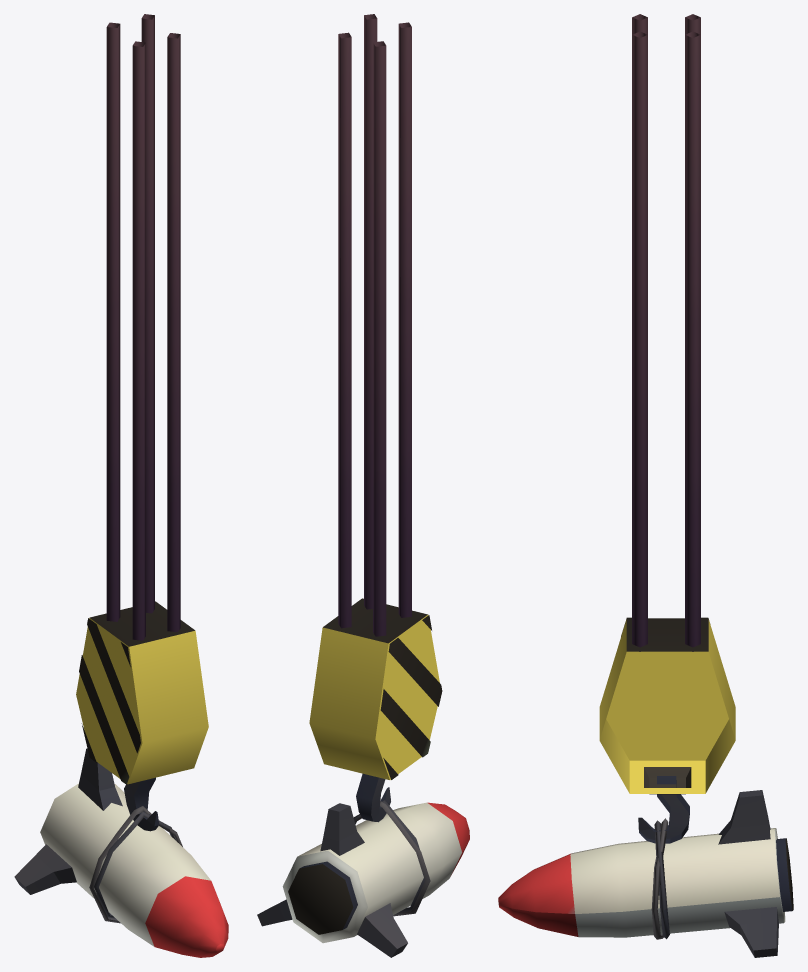
The model's file is Crane.fbx.
The picture shows the model from 3 angles, left to right: view 1: azimuth 30°, elevation 25°; view 2: azimuth 150°, elevation 25°; view 3: azimuth 270°, elevation 25°; orthographic projection. The views are drawn at different scales.
Visible parts, largest first — view 1: Crane, BigMissile, Crane_Rope; view 2: Crane, BigMissile, Crane_Rope; view 3: Crane, BigMissile, Crane_Rope.
Boxes of the visible parts, bbox=[...] form: Crane: bbox=[76, 14, 208, 831]; BigMissile: bbox=[14, 748, 228, 957]; Crane_Rope: bbox=[89, 806, 182, 923]; Crane: bbox=[309, 14, 442, 822]; BigMissile: bbox=[257, 802, 469, 957]; Crane_Rope: bbox=[353, 800, 430, 916]; Crane: bbox=[599, 14, 735, 843]; BigMissile: bbox=[498, 790, 793, 957]; Crane_Rope: bbox=[651, 818, 669, 939].
Bounding box in the file's own units: 85.65 × 518 × 151.
